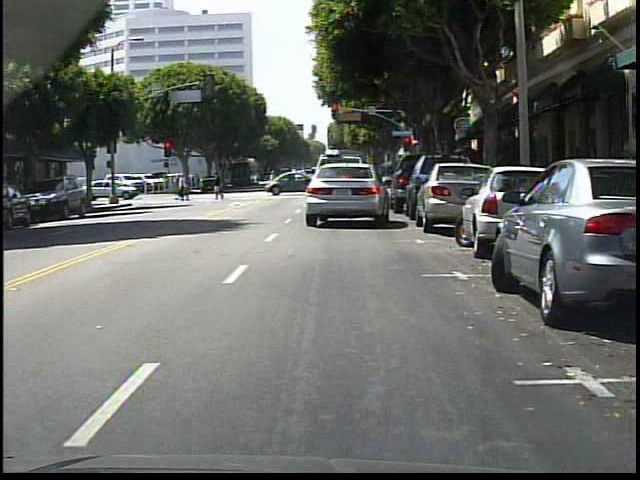person: (212, 172, 226, 201), (177, 174, 191, 201), (271, 171, 279, 191)
